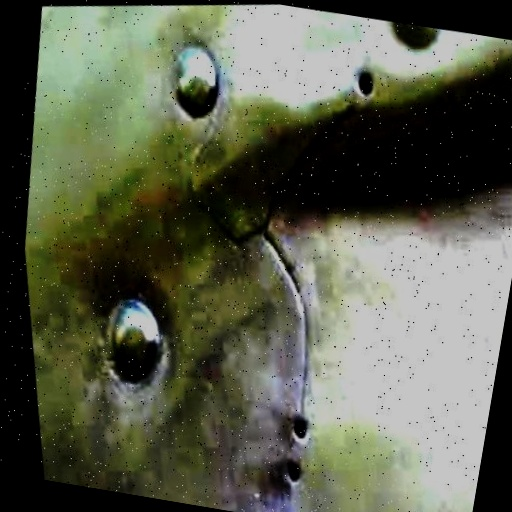crack: (136, 99, 433, 366), (204, 202, 449, 512)
